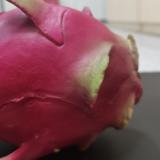pitaya: (1, 1, 143, 160)
